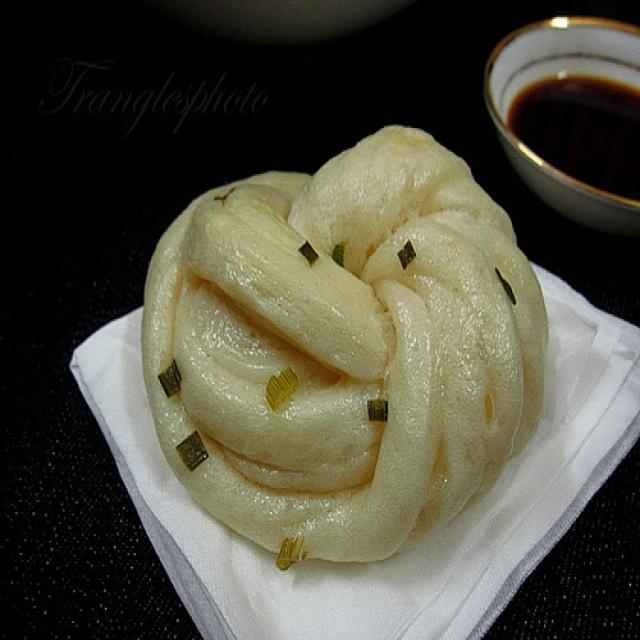带馅早点: (101, 90, 580, 594)
